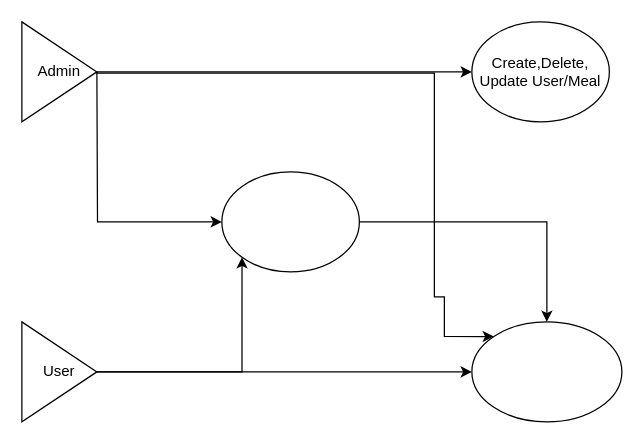
Some shapes in this 644 by 444 pixel diagram are drawn without their labels. The shapes that lost their labels are listed below. From the top down, each one's box as (x1, y1, x2, y2) in pixels, then its label:
(221, 171, 359, 272): Login
(471, 321, 622, 422): Order, add, remove, update
